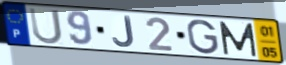2: (145, 16, 175, 53)
9: (64, 9, 94, 48)
G: (185, 18, 221, 55)
J: (111, 15, 136, 49)
M: (217, 20, 259, 58)
U: (27, 7, 65, 46)
